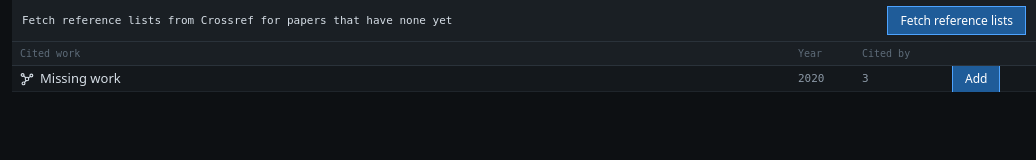
shared header columns › gaps uses live toggles and keeps rows, actions and widths aligned
Check: the button "Add" is shown, box [952,64,1000,92]
Right-click the row with class "table-head": [524, 54] box [12,42,1035,66]
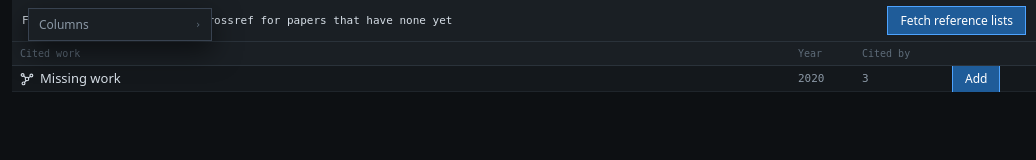
Check: the menu item "Columns ›" is shown
Click the menu item "Columns ›": [64, 24] box [29,12,211,37]
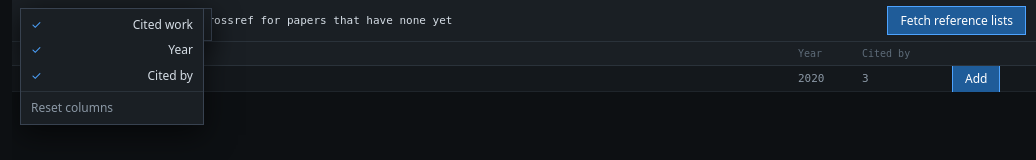
Check: the menu item "✓ Cited work" is shown
Click the menu item "✓ Cited work": [112, 25] box [21,12,203,37]
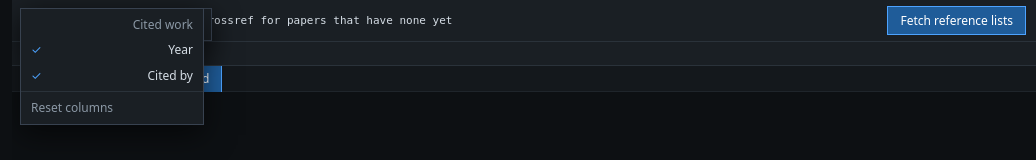
Check: the menu item "✓ Year" is shown
Click the menu item "✓ Year": [112, 50] box [21,37,203,63]
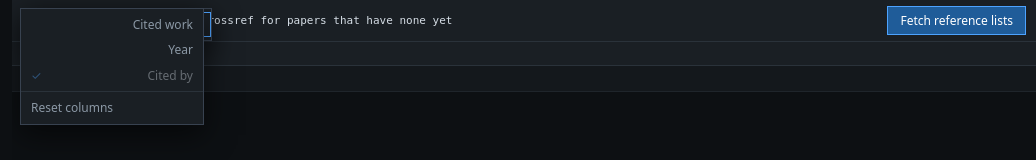
Check: the menu with class "submenu" is shown, box [20,8,204,125]
Check: the number of elements with class "cell" is 2, box [20,72,27,85]; [110,64,158,92]
